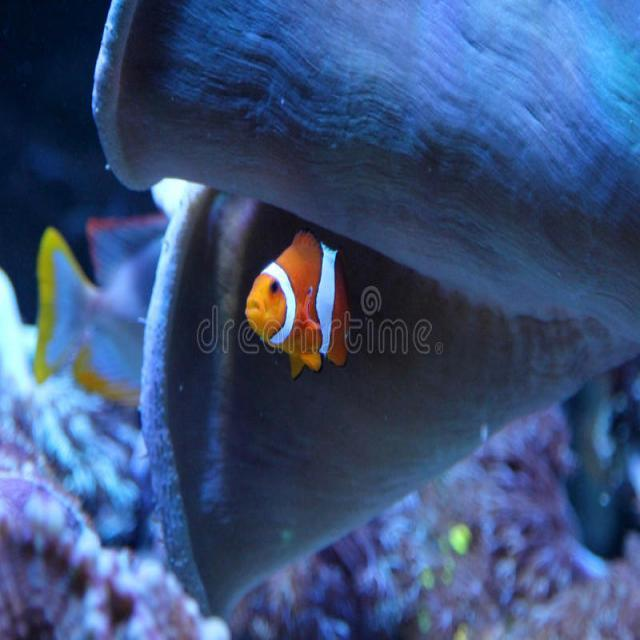ClownFish: (245, 225, 351, 379)
